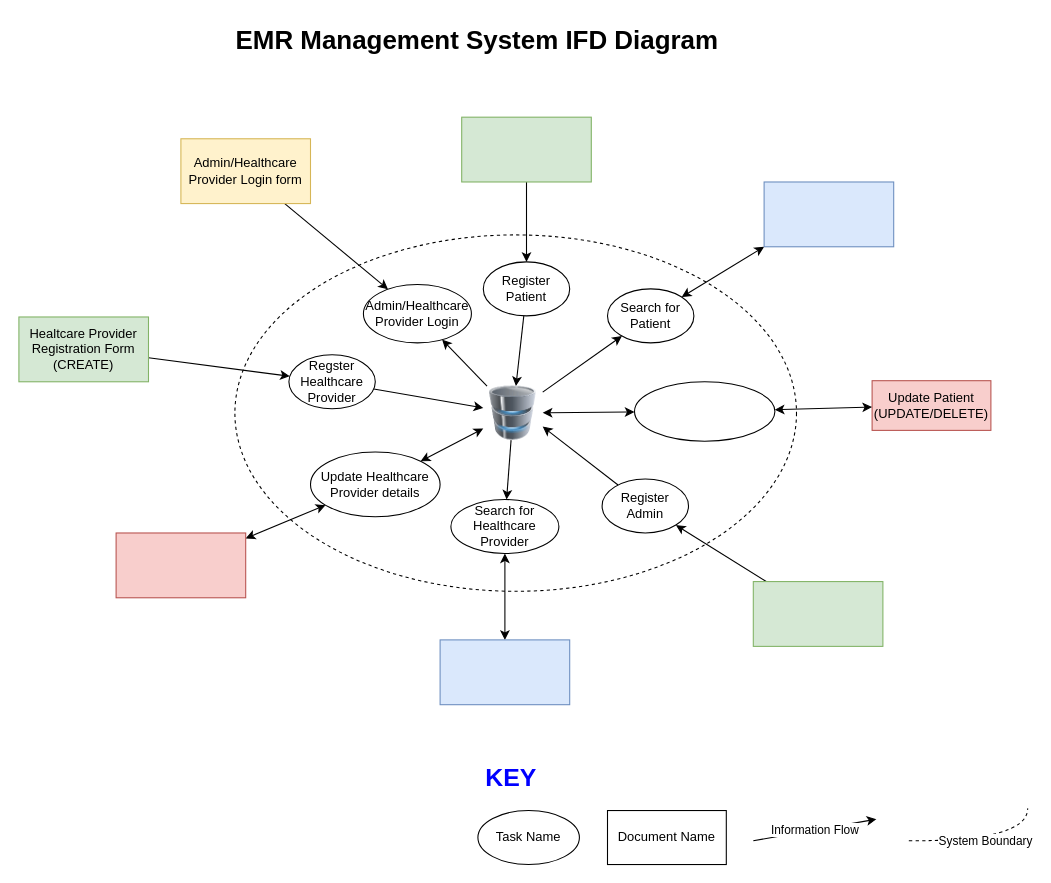
This 1051x883 diagram has some shape labels left out. Each missing label, with the centre of its shape:
Admin Registration Form (CREATE): the point at 817,613
Healthcare Provider Search and Results (READ): the point at 504,672
Patient Registration form (CREATE): the point at 526,149
Patient Search and Results (READ): the point at 828,214
Update Healthcare Provider Details (UPDATE/DELETE): the point at 180,565
UPDATE/DELETE Patient details/notes: the point at 704,411
